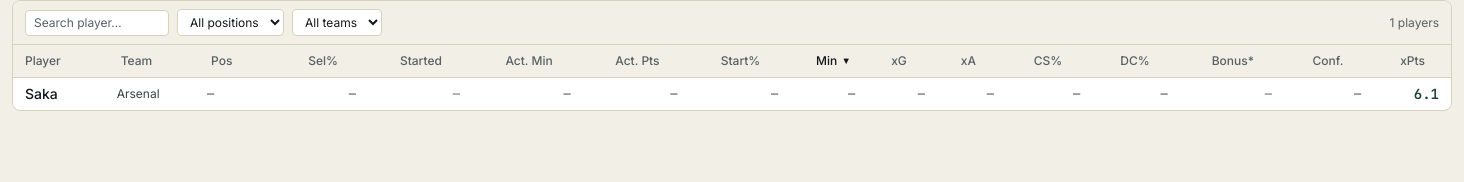
Scenario: SeasonPlayerTable -- breakdown, confidence, ownership › expands a row on click to show the xPts breakdown by component, and collapses on a second click
Expected: the text "xPts breakdown by source" is not shown
Click the text "Saka". click: x=41, y=94
box: x1=25 y1=85 x2=58 y2=102
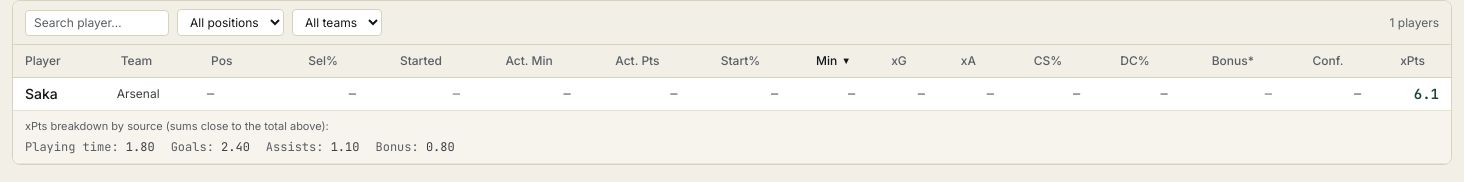
Now the text "xPts breakdown by source (sums close to the total above):" is shown, box x1=25 y1=119 x2=329 y2=133
Now the text "2.40" is shown, box x1=221 y1=139 x2=250 y2=155
Now the text "1.10" is shown, box x1=331 y1=139 x2=360 y2=155
Click the text "Saka". click: x=41, y=94
box: x1=25 y1=85 x2=58 y2=102
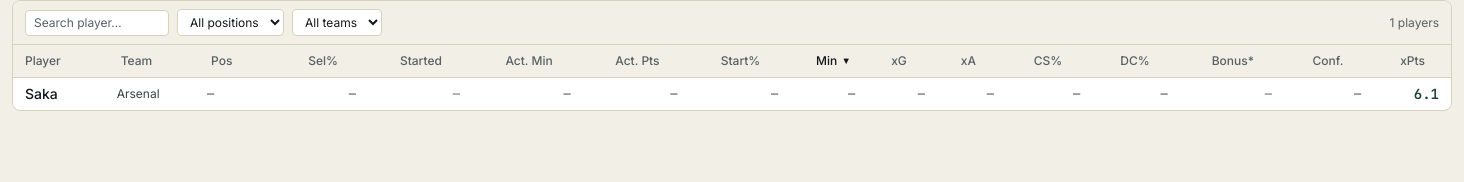
Now the text "xPts breakdown by source" is gone
